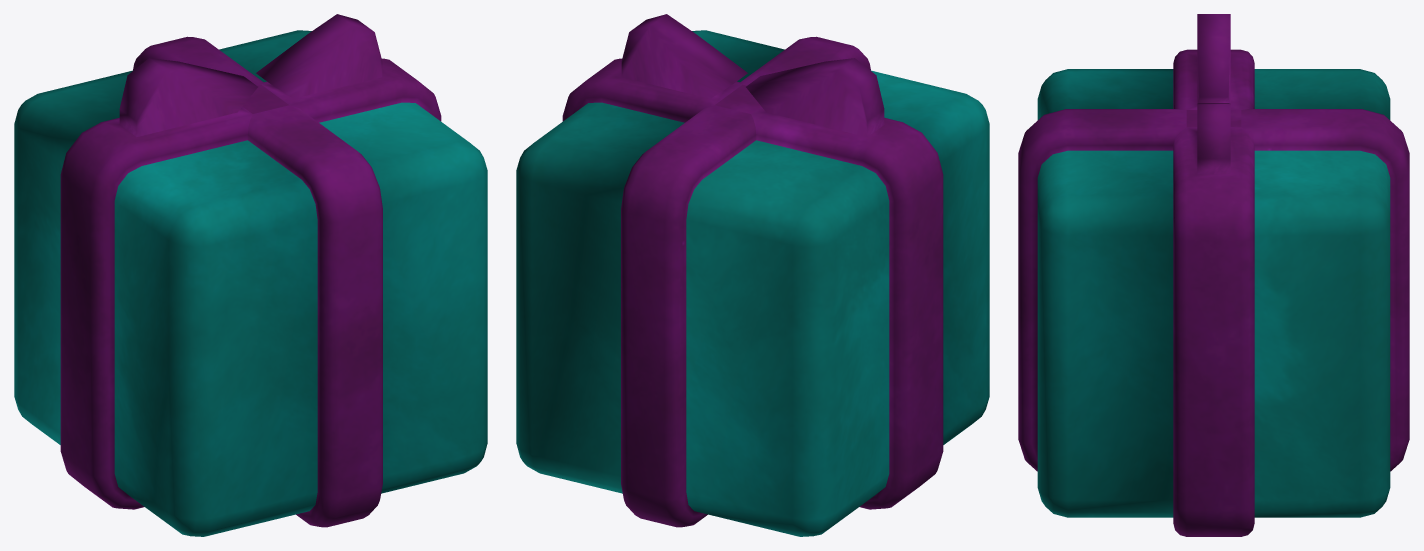
Rendered from Presente_P_Ciano.fbx.
3 views of the same model, side by side, from view 1: azimuth 30°, elevation 25°; view 2: azimuth 150°, elevation 25°; view 3: azimuth 270°, elevation 25° (orthographic). The views are drawn at different scales.
Parts seen in each view (by area): view 1: Presente_P_Ciano; view 2: Presente_P_Ciano; view 3: Presente_P_Ciano.
Part boxes in pixels (x1,y1,x2,y2): Presente_P_Ciano: (14,14,487,536); Presente_P_Ciano: (516,14,989,536); Presente_P_Ciano: (1018,14,1409,536).
Bounding box in the file's own units: 28.83 × 33.49 × 28.83.
1 material, 1 textured.
